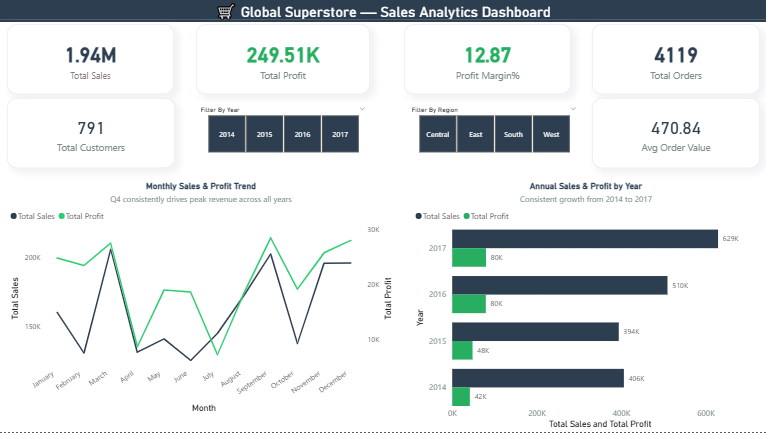

This screenshot's page, from the dashboard's own definition file:
{"tool":"powerbi","page":{"name":"Executive Summary","canvas":[1280,720],"ordinal":0},"visuals":[{"type":"shape","title":"🛒 Global Superstore — Sales Analytics Dashboard","box":[0,0,1280,36.7],"z":0},{"type":"card","fields":{"Values":["Orders.Total Sales"]},"box":[13.3,40,278.3,116.7],"z":1000},{"type":"card","fields":{"Values":["Orders.Total Profit"]},"box":[328.3,40,290,116.7],"z":2000},{"type":"card","fields":{"Values":["Orders.Profit Margin%"]},"box":[675,40,278.3,116.7],"z":3000},{"type":"card","fields":{"Values":["Orders.Total Orders"]},"box":[988.3,40,280,116.7],"z":4000},{"type":"lineChart","title":"Monthly Sales & Profit Trend","fields":{"Category":["Orders.Order Date.Variation.Date Hierarchy.Month"],"Y":["Orders.Total Sales"],"Y2":["Orders.Total Profit"]},"box":[13.3,301.7,646.7,391.7],"z":5000},{"type":"clusteredBarChart","title":"Annual Sales & Profit by Year","fields":{"Y":["Orders.Total Sales","Orders.Total Profit"],"Category":["Orders.Order Date.Variation.Date Hierarchy.Year"]},"box":[688.3,301.7,580,418.3],"z":6000},{"type":"slicer","fields":{"Values":["Orders.Order Year"]},"box":[322.9,171.4,300,88.6],"z":7000},{"type":"slicer","fields":{"Values":["Orders.Region"]},"box":[674.3,171.4,300,88.6],"z":8000},{"type":"card","fields":{"Values":["Orders.Total Customers"]},"box":[13.3,163.3,280,116.7],"z":9000},{"type":"card","fields":{"Values":["Orders.Avg Order Value"]},"box":[988.3,163.3,280,116.7],"z":10000}]}

Visuals, with their boxes in screenshot pixels (x1, y1, x2, y2), scaled from the page's 1280x720 canvas onto the 766x433 screenshot:
"🛒 Global Superstore — Sales Analytics Dashboard" shape: 0 0 765 22
card - Orders.Total Sales: 8 24 175 94
card - Orders.Total Profit: 196 24 370 94
card - Orders.Profit Margin%: 404 24 570 94
card - Orders.Total Orders: 591 24 759 94
"Monthly Sales & Profit Trend" lineChart: 8 181 395 417
"Annual Sales & Profit by Year" clusteredBarChart: 412 181 759 432
slicer - Orders.Order Year: 193 103 373 156
slicer - Orders.Region: 404 103 583 156
card - Orders.Total Customers: 8 98 176 168
card - Orders.Avg Order Value: 591 98 759 168
